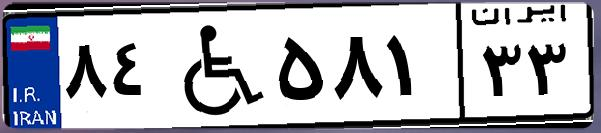1: (385, 28, 445, 110)
3: (475, 38, 525, 113), (525, 38, 570, 115)
4: (110, 28, 158, 98)
5: (270, 28, 330, 110)
8: (330, 28, 385, 110), (57, 26, 110, 100)
ژ (معلولین و جانبازان): (158, 12, 270, 120)
